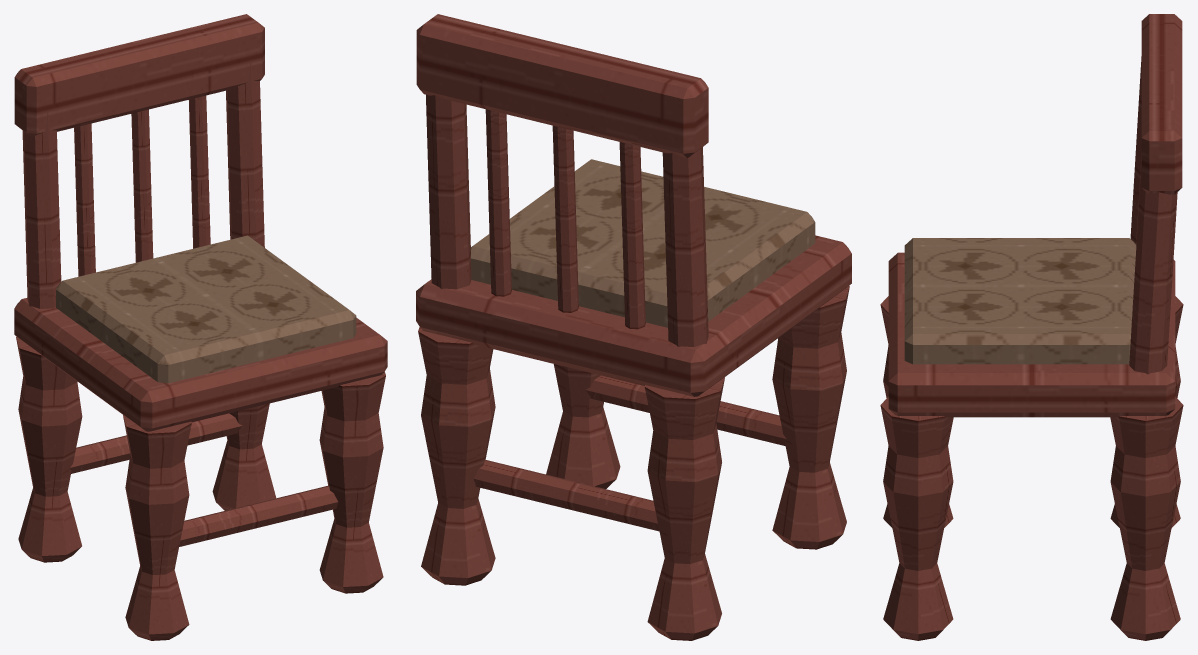
Rendered from MD_42_DiningChair.fbx.
The picture shows the model from 3 angles, left to right: view 1: azimuth 30°, elevation 25°; view 2: azimuth 150°, elevation 25°; view 3: azimuth 270°, elevation 25°; orthographic projection. The views are drawn at different scales.
Visible parts, largest first — view 1: MD_42_DiningChair_seat_pad, MD_42_DiningChair_seat, MD_42_DiningChair_carved_back_rail, MD_42_DiningChair_turned_leg, MD_42_DiningChair_turned_leg.002, MD_42_DiningChair_turned_leg.001, MD_42_DiningChair_back_post, MD_42_DiningChair_back_post.001, MD_42_DiningChair_turned_leg.003, MD_42_DiningChair_footrest, MD_42_DiningChair_back_spindle.001, MD_42_DiningChair_back_spindle (+2 smaller); view 2: MD_42_DiningChair_seat, MD_42_DiningChair_seat_pad, MD_42_DiningChair_carved_back_rail, MD_42_DiningChair_turned_leg.001, MD_42_DiningChair_turned_leg.003, MD_42_DiningChair_turned_leg, MD_42_DiningChair_back_post, MD_42_DiningChair_back_post.001, MD_42_DiningChair_turned_leg.002, MD_42_DiningChair_footrest.001, MD_42_DiningChair_back_spindle, MD_42_DiningChair_back_spindle.002 (+2 smaller); view 3: MD_42_DiningChair_seat_pad, MD_42_DiningChair_seat, MD_42_DiningChair_turned_leg.002, MD_42_DiningChair_turned_leg.003, MD_42_DiningChair_carved_back_rail, MD_42_DiningChair_back_post.001, MD_42_DiningChair_back_post, MD_42_DiningChair_turned_leg, MD_42_DiningChair_turned_leg.001.
Part boxes in pixels (x1,y1,x2,y2): MD_42_DiningChair_seat_pad: (56, 235, 356, 383); MD_42_DiningChair_seat: (14, 298, 387, 431); MD_42_DiningChair_carved_back_rail: (14, 14, 264, 136); MD_42_DiningChair_turned_leg: (123, 415, 191, 640); MD_42_DiningChair_turned_leg.002: (319, 372, 385, 593); MD_42_DiningChair_turned_leg.001: (16, 336, 82, 562); MD_42_DiningChair_back_post: (22, 110, 61, 308); MD_42_DiningChair_back_post.001: (226, 61, 264, 247); MD_42_DiningChair_turned_leg.003: (212, 403, 276, 510); MD_42_DiningChair_footrest: (179, 485, 338, 546); MD_42_DiningChair_back_spindle.001: (131, 109, 153, 262); MD_42_DiningChair_back_spindle: (74, 123, 95, 276); MD_42_DiningChair_seat: (416, 235, 851, 396); MD_42_DiningChair_seat_pad: (471, 159, 815, 327); MD_42_DiningChair_carved_back_rail: (416, 14, 708, 158); MD_42_DiningChair_turned_leg.001: (644, 377, 724, 640); MD_42_DiningChair_turned_leg.003: (418, 327, 495, 585); MD_42_DiningChair_turned_leg: (772, 286, 849, 549); MD_42_DiningChair_back_post: (662, 147, 708, 346); MD_42_DiningChair_back_post.001: (426, 94, 471, 289); MD_42_DiningChair_turned_leg.002: (546, 364, 620, 488); MD_42_DiningChair_footrest.001: (474, 460, 659, 531); MD_42_DiningChair_back_spindle: (619, 142, 645, 329); MD_42_DiningChair_back_spindle.002: (485, 109, 511, 296); MD_42_DiningChair_seat_pad: (904, 238, 1136, 364); MD_42_DiningChair_seat: (888, 252, 1175, 417); MD_42_DiningChair_turned_leg.002: (880, 397, 953, 640); MD_42_DiningChair_turned_leg.003: (1110, 397, 1183, 640); MD_42_DiningChair_carved_back_rail: (1141, 14, 1182, 194); MD_42_DiningChair_back_post.001: (1129, 162, 1177, 374); MD_42_DiningChair_back_post: (1130, 56, 1141, 244); MD_42_DiningChair_turned_leg: (880, 296, 953, 527); MD_42_DiningChair_turned_leg.001: (1110, 296, 1183, 527).
Bounding box in the file's own units: 0.58 × 1.04 × 0.56.
Materials: 2 (2 with a texture image).
